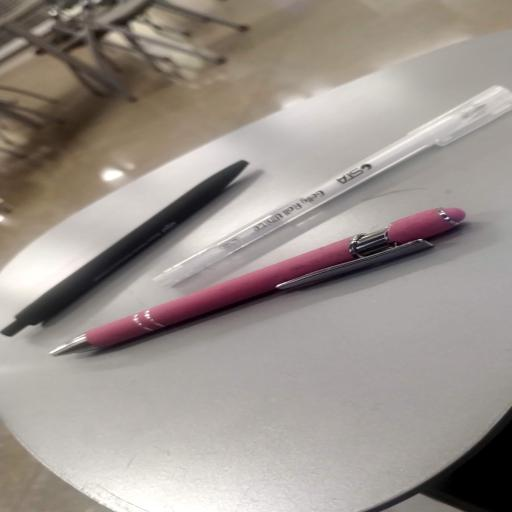pen: (155, 86, 511, 285), (51, 208, 464, 355), (2, 161, 247, 336)
